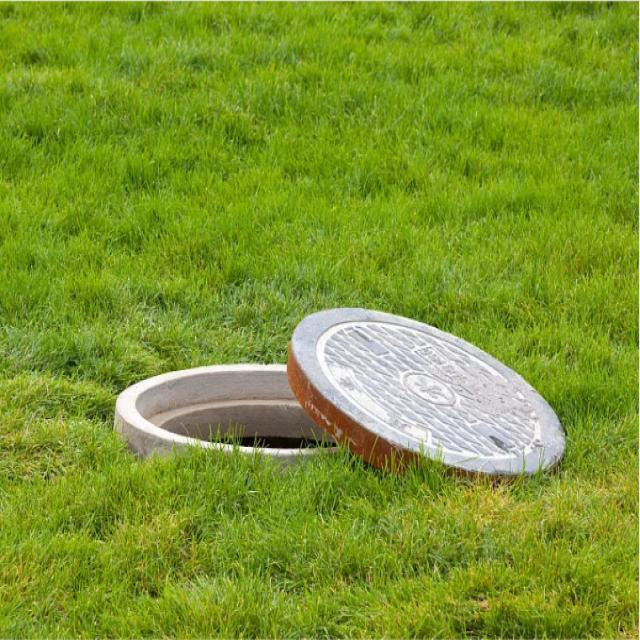manhole: (115, 365, 331, 461)
